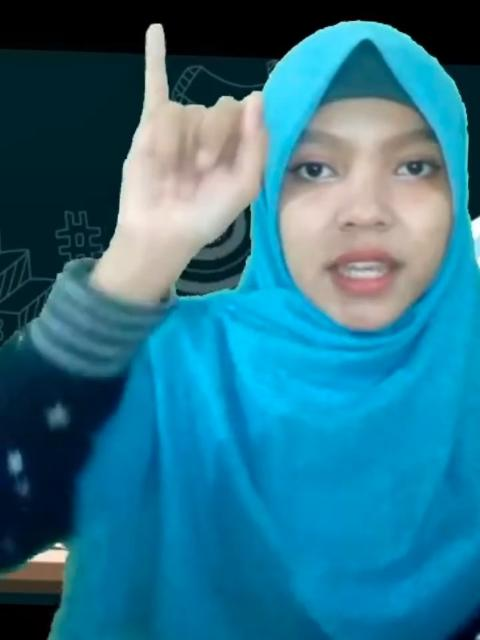I: (114, 22, 270, 242)
